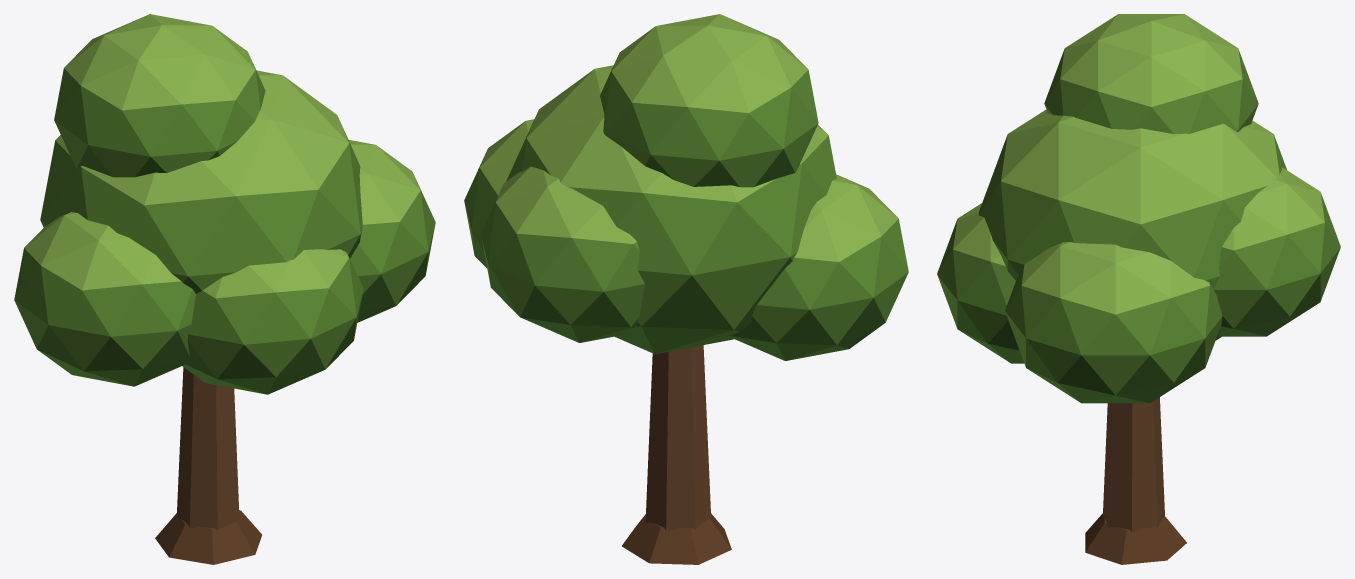
The model's file is poc_tree.fbx.
The picture shows the model from 3 angles, left to right: view 1: azimuth 30°, elevation 25°; view 2: azimuth 150°, elevation 25°; view 3: azimuth 270°, elevation 25°; orthographic projection. The views are drawn at different scales.
Visible parts, largest first — view 1: POC_Tree; view 2: POC_Tree; view 3: POC_Tree.
Boxes of the visible parts, x1,y1,x2,y2 form: POC_Tree: (14, 14, 435, 564); POC_Tree: (464, 14, 908, 564); POC_Tree: (937, 14, 1340, 564).
Bounding box in the file's own units: 1.23 × 1.55 × 1.13.
